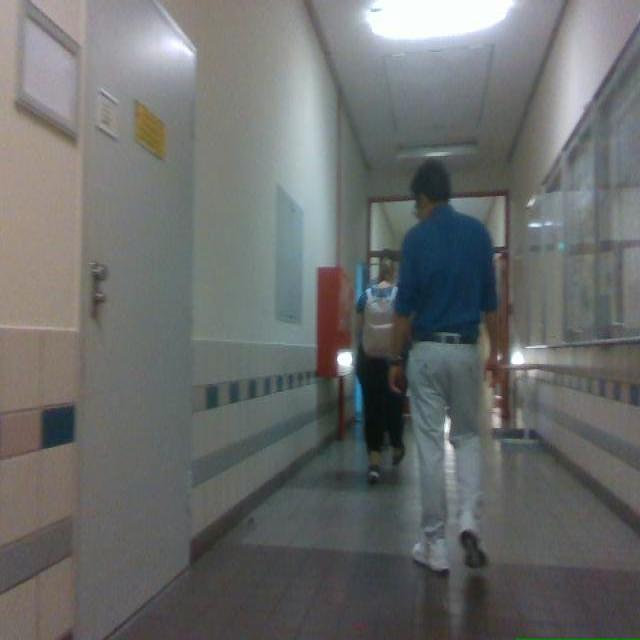humans: (388, 160, 497, 575), (356, 257, 404, 483)
objects: (362, 288, 396, 357)
